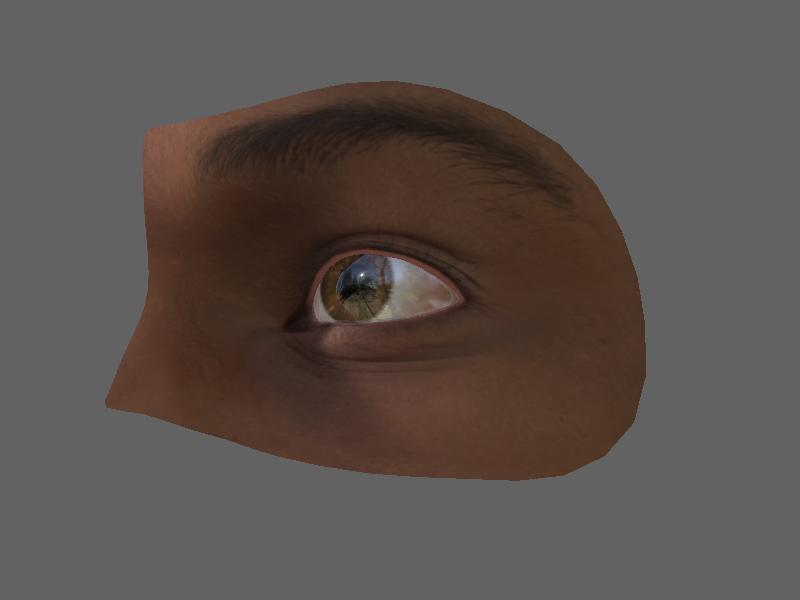iris: (315, 250, 404, 324)
